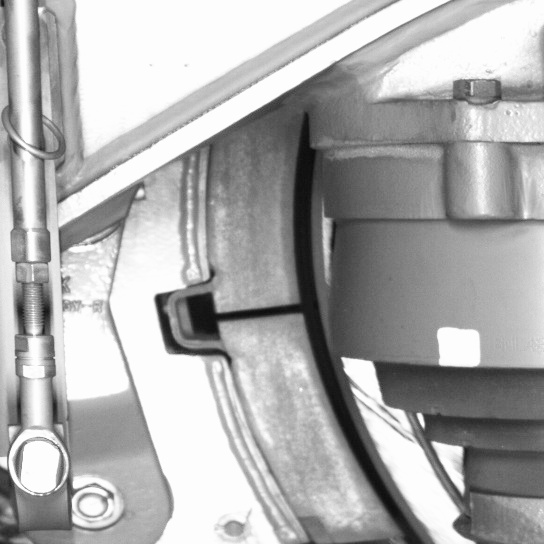KnifeSwitch: (215, 144, 433, 542)
